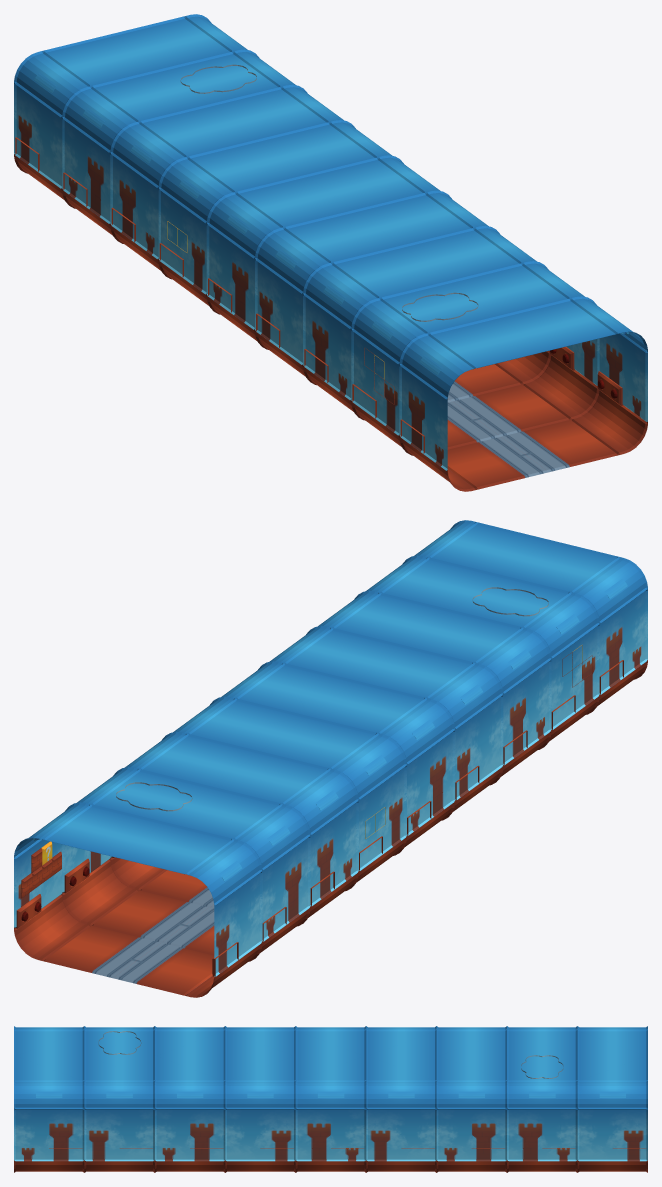
Rendered from Level 2 Room 3 .fbx.
3 renders of one model, top to bottom at view 1: azimuth 30°, elevation 25°; view 2: azimuth 150°, elevation 25°; view 3: azimuth 270°, elevation 25°, orthographic. The views are drawn at different scales.
Visible parts, largest first — view 1: Level 2 Main Body 1.018, Level 2 Main Body 2.014, Level 2 Main Body 1.014, Level 2 Main Body 2.013, Level 2 Main Body 2.012, Level 2 Main Body 1.015, Level 2 Main Body 1.013, Level 2 Main Body 1.017, Level 2 Main Body 2.008, Level 2 Big Brick .003; view 2: Level 2 Main Body 2.013, Level 2 Main Body 1.017, Level 2 Main Body 1.015, Level 2 Main Body 1.014, Level 2 Main Body 1.013, Level 2 Main Body 2.008, Level 2 Main Body 1.018, Level 2 Main Body 2.012, Level 2 Main Body 2.014, Level 2 Big Brick .003; view 3: Level 2 Main Body 1.013, Level 2 Main Body 1.014, Level 2 Main Body 1.015, Level 2 Main Body 1.018, Level 2 Main Body 2.008, Level 2 Main Body 2.012, Level 2 Main Body 2.013, Level 2 Main Body 2.014, Level 2 Main Body 1.017, Level 2 Big Brick .003.
Boxes of the visible parts, x1,y1,x2,y2 form: Level 2 Main Body 1.018: (399, 296, 647, 491); Level 2 Main Body 2.014: (351, 261, 599, 449); Level 2 Main Body 1.014: (303, 225, 551, 411); Level 2 Main Body 2.013: (14, 14, 247, 200); Level 2 Main Body 2.012: (158, 120, 392, 305); Level 2 Main Body 1.015: (110, 84, 343, 270); Level 2 Main Body 1.013: (206, 155, 440, 341); Level 2 Main Body 1.017: (62, 49, 295, 235); Level 2 Main Body 2.008: (255, 190, 488, 376); Level 2 Big Brick .003: (15, 137, 623, 453); Level 2 Main Body 2.013: (14, 802, 262, 997); Level 2 Main Body 1.017: (62, 767, 310, 955); Level 2 Main Body 1.015: (110, 731, 358, 917); Level 2 Main Body 1.014: (318, 590, 551, 776); Level 2 Main Body 1.013: (221, 661, 455, 847); Level 2 Main Body 2.008: (269, 626, 503, 811); Level 2 Main Body 1.018: (414, 520, 647, 706); Level 2 Main Body 2.012: (173, 696, 406, 882); Level 2 Main Body 2.014: (366, 555, 599, 741); Level 2 Big Brick .003: (15, 660, 623, 976); Level 2 Main Body 1.013: (295, 1026, 366, 1172); Level 2 Main Body 1.014: (155, 1026, 225, 1172); Level 2 Main Body 1.015: (436, 1026, 506, 1172); Level 2 Main Body 1.018: (14, 1026, 84, 1172); Level 2 Main Body 2.008: (225, 1026, 295, 1172); Level 2 Main Body 2.012: (366, 1026, 436, 1172); Level 2 Main Body 2.013: (577, 1026, 647, 1172); Level 2 Main Body 2.014: (84, 1026, 154, 1172); Level 2 Main Body 1.017: (507, 1026, 577, 1172); Level 2 Big Brick .003: (49, 1148, 645, 1148).
Size of the model in its own units: 2118 by 1229 by 7938.
